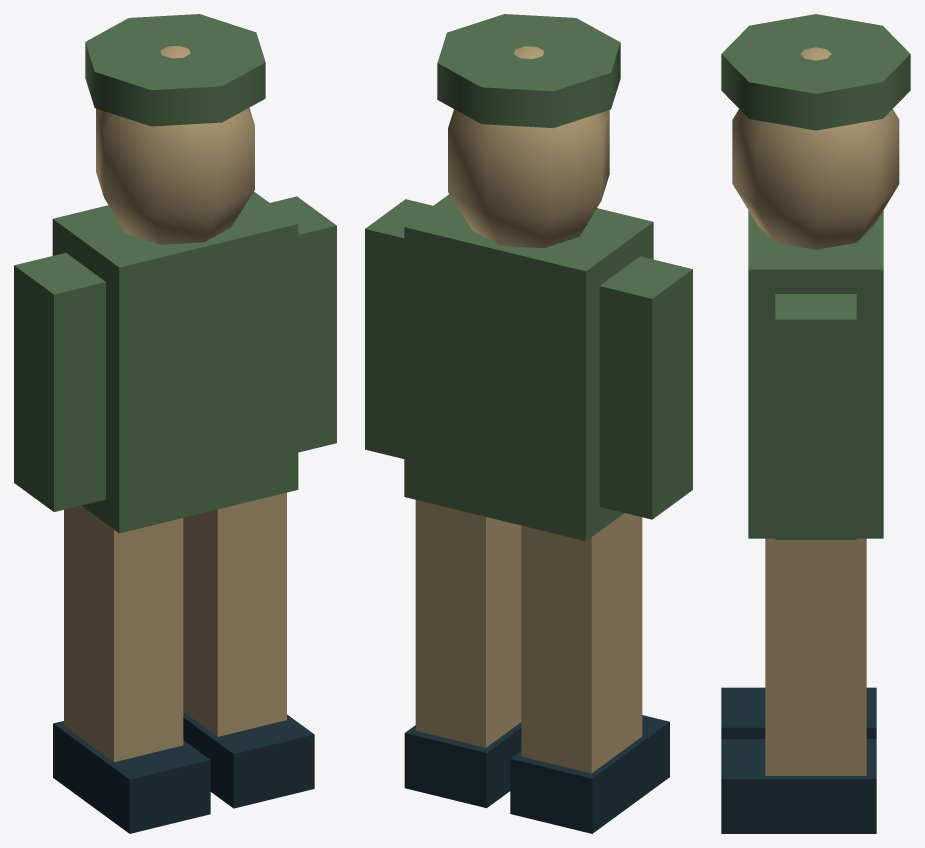
File: guard-crowd.glb
3 renders of one model, left to right at view 1: azimuth 30°, elevation 25°; view 2: azimuth 150°, elevation 25°; view 3: azimuth 270°, elevation 25°, orthographic.
Parts seen in each view (by area): view 1: shell; view 2: shell; view 3: shell.
Boxes of the visible parts, left/top/right/bottom form: shell: left=14, top=14, right=336, bottom=833; shell: left=365, top=14, right=692, bottom=833; shell: left=721, top=14, right=910, bottom=833.
Size of the model in its own units: 0.49 by 1.21 by 0.28.
